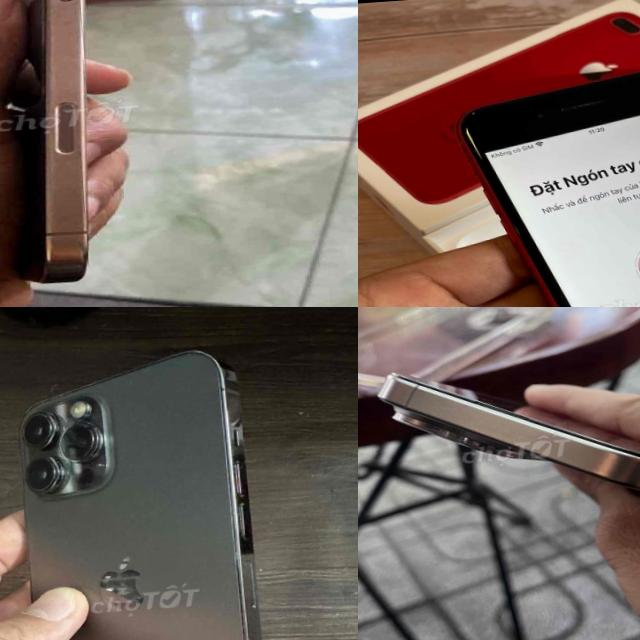gen_12_13: (1, 337, 287, 640)
gen_15: (364, 338, 640, 532)
gen_16: (0, 0, 146, 288)
gen_7_8: (455, 56, 640, 307)
